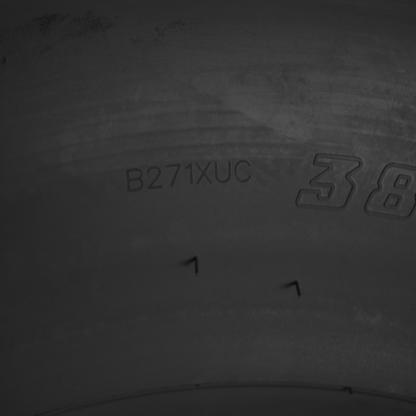ocr: (124, 157, 254, 196)
